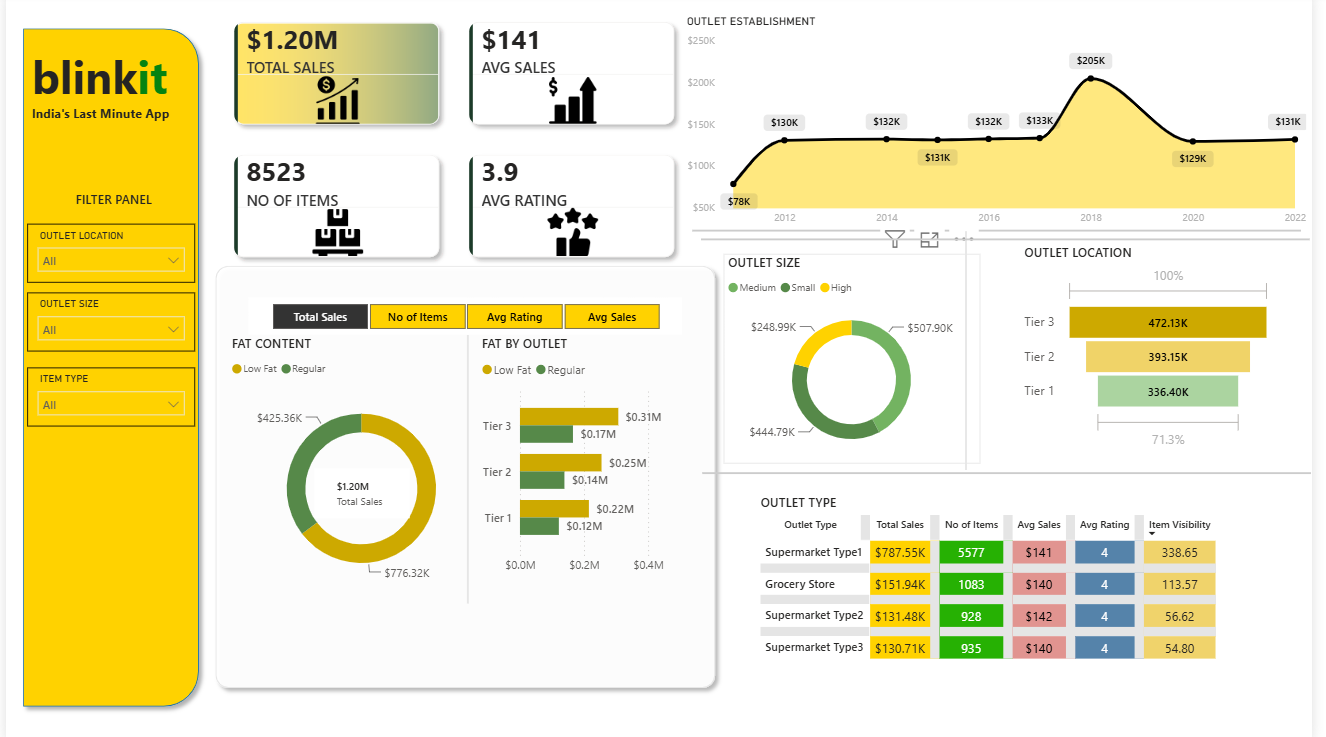

The dashboard page shown, as its layout file describes it:
{"tool":"powerbi","page":{"name":"Page 1","canvas":[1400,800],"ordinal":0},"visuals":[{"type":"shape","box":[9.4,26.8,206.4,745.3],"z":0},{"type":"textbox","box":[22.8,49.6,167.6,103.2],"z":1000},{"type":"textbox","box":[22.8,112.6,167.6,50.9],"z":2000},{"type":"cardVisual","fields":{"Data":["BlinkIT Grocery Data.Total Sales","BlinkIT Grocery Data.Avg Sales","BlinkIT Grocery Data.No of Items","BlinkIT Grocery Data.Avg Rating"]},"box":[215.8,0,530.8,311],"z":3000},{"type":"shape","box":[215.8,281.5,553.6,470.5],"z":4000},{"type":"donutChart","title":"FAT CONTENT","fields":{"Y":["BlinkIT Grocery Data.Total Sales"],"Category":["BlinkIT Grocery Data.Item Fat Content"]},"box":[237.3,364.6,288,284],"z":5000},{"type":"slicer","fields":{"Values":["Metrics.Metrics"]},"box":[260.1,324.4,465.1,40.2],"z":6000},{"type":"cardVisual","fields":{"Data":["BlinkIT Grocery Data.Total Sales"]},"box":[325.7,502.7,112.6,63],"z":7000},{"type":"clusteredBarChart","title":"FAT BY OUTLET","fields":{"Y":["BlinkIT Grocery Data.Total Sales"],"Category":["BlinkIT Grocery Data.Outlet Location Type"],"Series":["BlinkIT Grocery Data.Item Fat Content"]},"box":[505.4,364.6,219.8,265.4],"z":8000},{"type":"shape","box":[485.3,364.6,20.1,288.2],"z":9000},{"type":"lineChart","title":"OUTLET ESTABLISHMENT","fields":{"Y":["BlinkIT Grocery Data.Total Sales"],"Category":["BlinkIT Grocery Data.Outlet Establishment Year"]},"box":[725.2,0,674.3,234.6],"z":9001},{"type":"shape","box":[735.9,246.7,652.8,12.1],"z":9002},{"type":"donutChart","title":"OUTLET SIZE","fields":{"Y":["BlinkIT Grocery Data.Total Sales"],"Category":["BlinkIT Grocery Data.Outlet Size"]},"box":[769.4,277.5,274.8,225.2],"z":9003},{"type":"shape","box":[1014.8,253.4,29.5,256],"z":9004},{"type":"funnel","title":"OUTLET LOCATION","fields":{"Y":["Sum(BlinkIT Grocery Data.Sales)"],"Category":["BlinkIT Grocery Data.Outlet Location Type"]},"box":[1087.1,266.8,274.8,225],"z":9005},{"type":"shape","box":[746.7,506.7,652.8,12.1],"z":9006},{"type":"pivotTable","title":"OUTLET TYPE","fields":{"Rows":["BlinkIT Grocery Data.Outlet Type"],"Values":["BlinkIT Grocery Data.Total Sales","BlinkIT Grocery Data.No of Items","BlinkIT Grocery Data.Avg Sales","BlinkIT Grocery Data.Avg Rating","Sum(BlinkIT Grocery Data.Item Visibility)"]},"box":[804.3,534.9,595.2,265.4],"z":9007},{"type":"slicer","fields":{"Values":["BlinkIT Grocery Data.Outlet Location Type"]},"box":[22.8,245.3,179.6,63],"z":9008},{"type":"shape","box":[745.9,256.7,652.8,12.1],"z":9009},{"type":"slicer","fields":{"Values":["BlinkIT Grocery Data.Outlet Size"]},"box":[22.8,319,179.6,63],"z":9010},{"type":"slicer","fields":{"Values":["BlinkIT Grocery Data.Item Type"]},"box":[22.8,399.5,179.6,63],"z":9011},{"type":"textbox","box":[69.7,205.1,107.2,29.5],"z":9012}]}

Visuals, with their boxes in screenshot pixels (x1, y1, x2, y2), scaled from the page's 1400x800 canvas onto the 1326x737 screenshot:
shape: {"left": 9, "top": 25, "right": 204, "bottom": 711}
textbox: {"left": 22, "top": 46, "right": 180, "bottom": 141}
textbox: {"left": 22, "top": 104, "right": 180, "bottom": 151}
cardVisual - BlinkIT Grocery Data.Total Sales x BlinkIT Grocery Data.Avg Sales: {"left": 204, "top": 0, "right": 707, "bottom": 287}
shape: {"left": 204, "top": 259, "right": 729, "bottom": 693}
"FAT CONTENT" donutChart: {"left": 225, "top": 336, "right": 498, "bottom": 598}
slicer - Metrics.Metrics: {"left": 246, "top": 299, "right": 687, "bottom": 336}
cardVisual - BlinkIT Grocery Data.Total Sales: {"left": 308, "top": 463, "right": 415, "bottom": 521}
"FAT BY OUTLET" clusteredBarChart: {"left": 479, "top": 336, "right": 687, "bottom": 580}
shape: {"left": 460, "top": 336, "right": 479, "bottom": 601}
"OUTLET ESTABLISHMENT" lineChart: {"left": 687, "top": 0, "right": 1325, "bottom": 216}
shape: {"left": 697, "top": 227, "right": 1315, "bottom": 238}
"OUTLET SIZE" donutChart: {"left": 729, "top": 256, "right": 989, "bottom": 463}
shape: {"left": 961, "top": 233, "right": 989, "bottom": 469}
"OUTLET LOCATION" funnel: {"left": 1030, "top": 246, "right": 1290, "bottom": 453}
shape: {"left": 707, "top": 467, "right": 1325, "bottom": 478}
"OUTLET TYPE" pivotTable: {"left": 762, "top": 493, "right": 1325, "bottom": 736}
slicer - BlinkIT Grocery Data.Outlet Location Type: {"left": 22, "top": 226, "right": 192, "bottom": 284}
shape: {"left": 706, "top": 236, "right": 1325, "bottom": 248}
slicer - BlinkIT Grocery Data.Outlet Size: {"left": 22, "top": 294, "right": 192, "bottom": 352}
slicer - BlinkIT Grocery Data.Item Type: {"left": 22, "top": 368, "right": 192, "bottom": 426}
textbox: {"left": 66, "top": 189, "right": 168, "bottom": 216}
